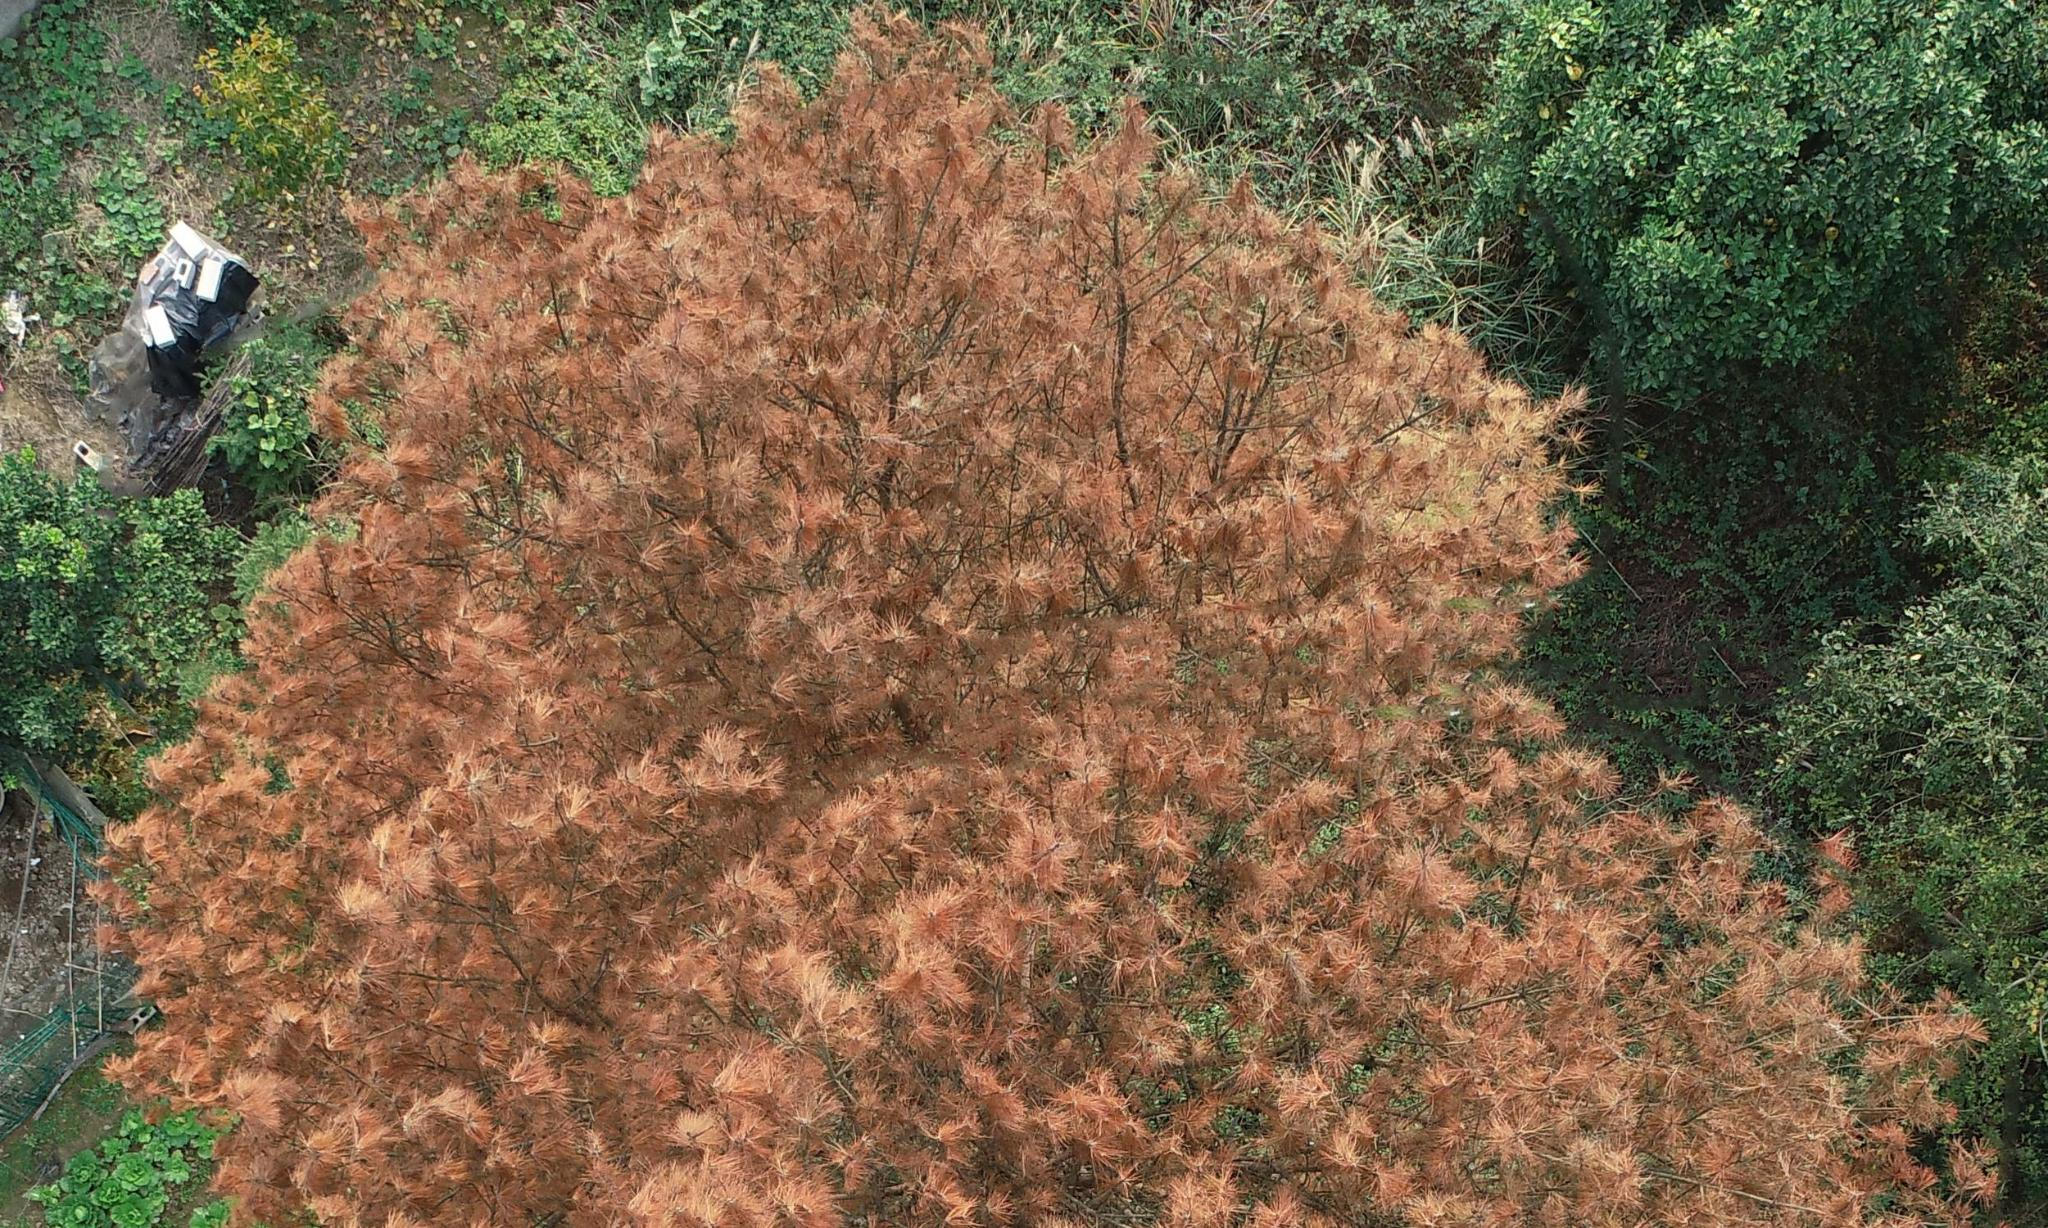heavy: (99, 44, 1956, 1215)
